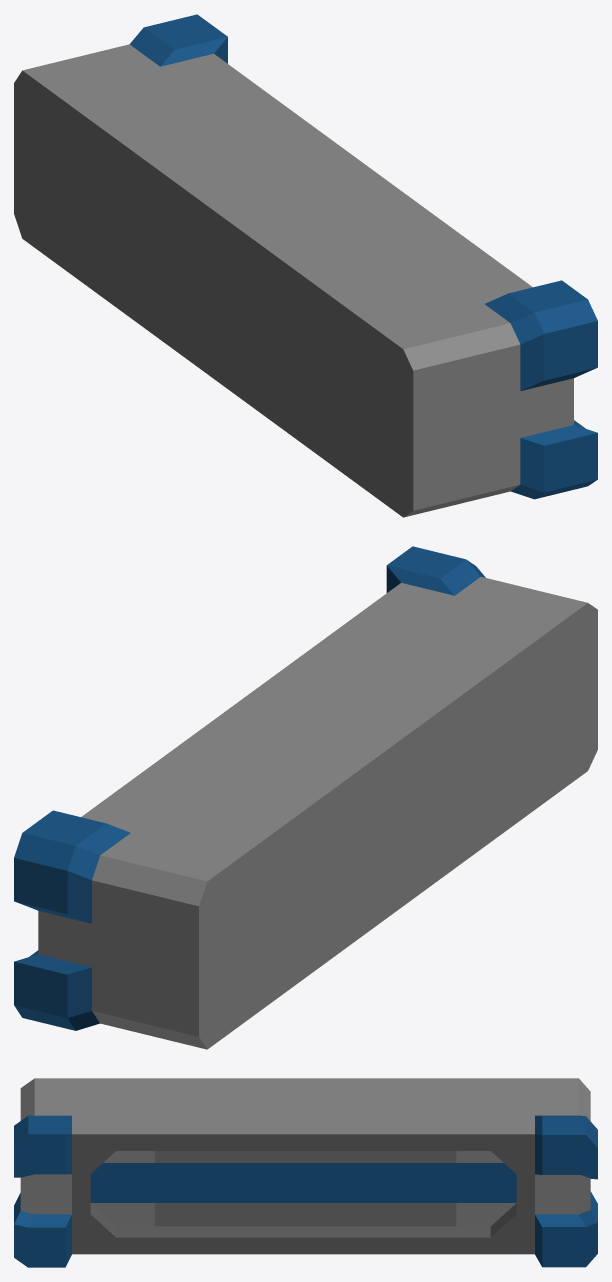
Rendered from space_platform.glb.
3 renders of one model, top to bottom at view 1: azimuth 30°, elevation 25°; view 2: azimuth 150°, elevation 25°; view 3: azimuth 270°, elevation 25°, orthographic. The views are drawn at different scales.
Parts seen in each view (by area): view 1: Platform; view 2: Platform; view 3: Platform.
Part boxes in pixels (x1,y1,x2,y2): Platform: (14,14,597,517); Platform: (14,546,597,1049); Platform: (14,1078,597,1267).
Size of the model in its own units: 3.27 by 3.25 by 12.88.
Materials: 1 (1 with a texture image).
